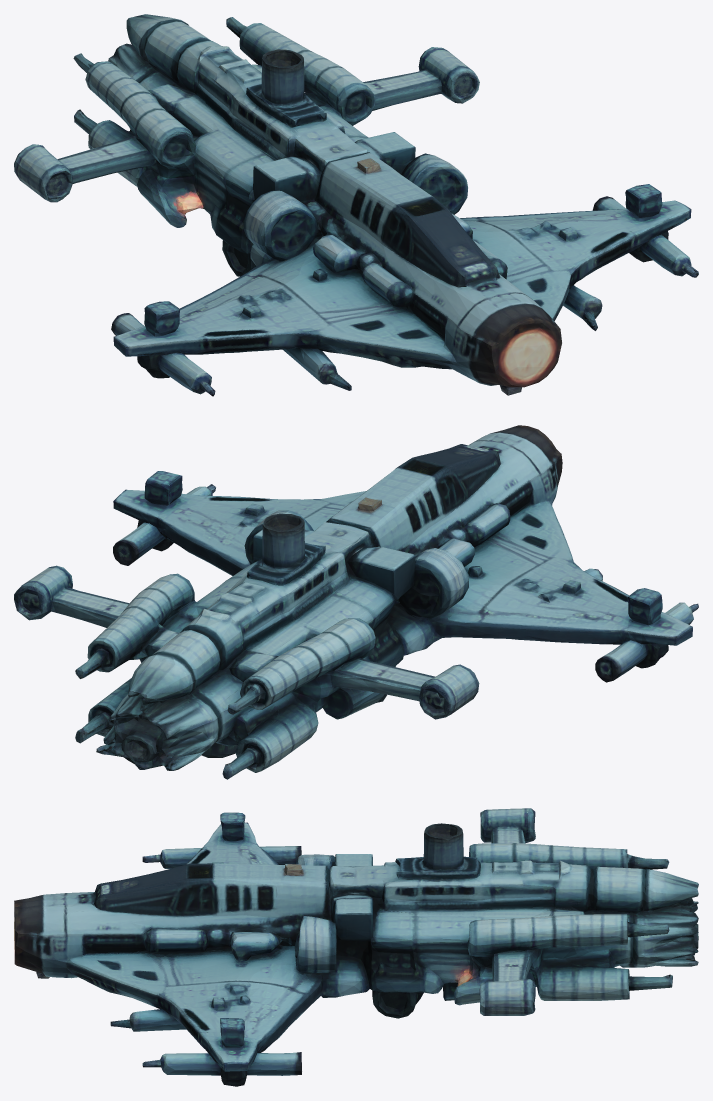
Rendered from Paladin Gunship.glb.
The picture shows the model from 3 angles, top to bottom: view 1: azimuth 30°, elevation 25°; view 2: azimuth 150°, elevation 25°; view 3: azimuth 270°, elevation 25°; orthographic projection. The views are drawn at different scales.
Parts seen in each view (by area): view 1: world; view 2: world; view 3: world.
Part boxes in pixels (bbox=[...]): world: bbox=[14, 14, 698, 396]; world: bbox=[14, 425, 698, 779]; world: bbox=[14, 808, 698, 1086].
Bounding box in the file's own units: 0.8358 × 0.2665 × 1.
1 material, 1 textured.
